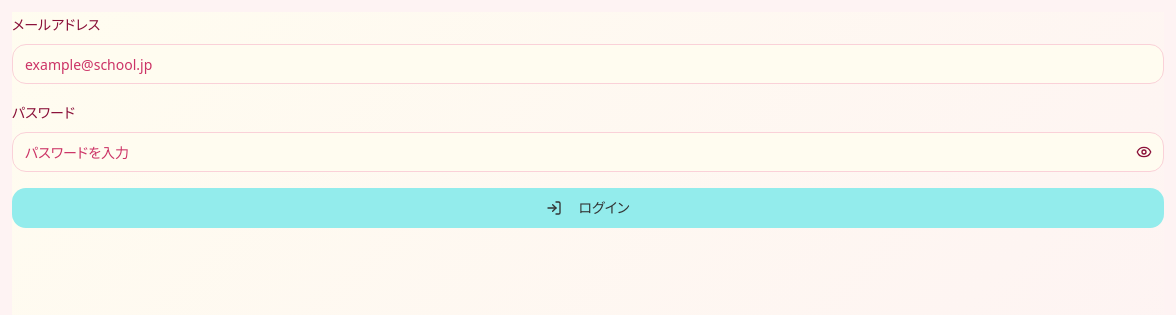
Test: LoginForm › handles sign in exceptions gracefully
Type "test@example.com" into the field labelled "メールアドレス".
click(588, 64); type("test@example.com")  # box [12,44,1164,84]
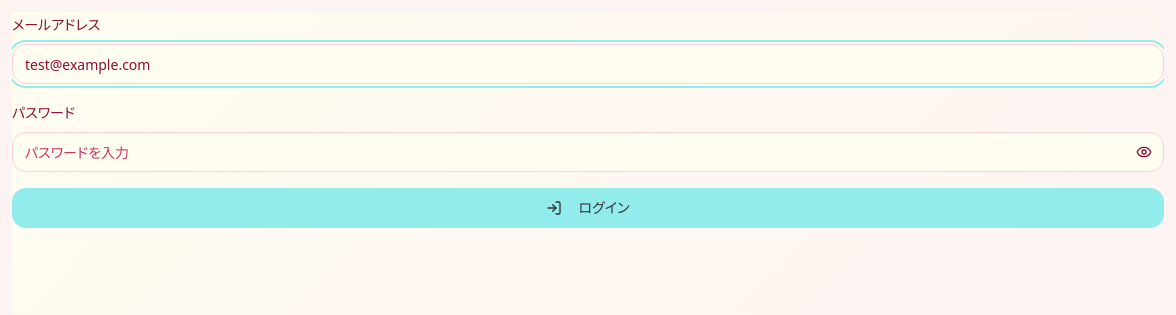
Type "Password123" into the password field with placeholder "パスワードを入力".
click(588, 152); type("Password123")  # box [12,132,1164,172]
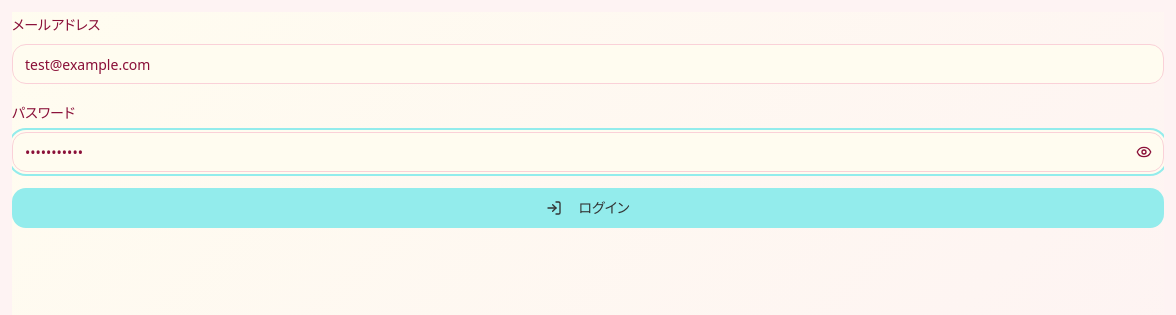
Click the button "ログイン".
click(588, 208)  # box [12,188,1164,228]
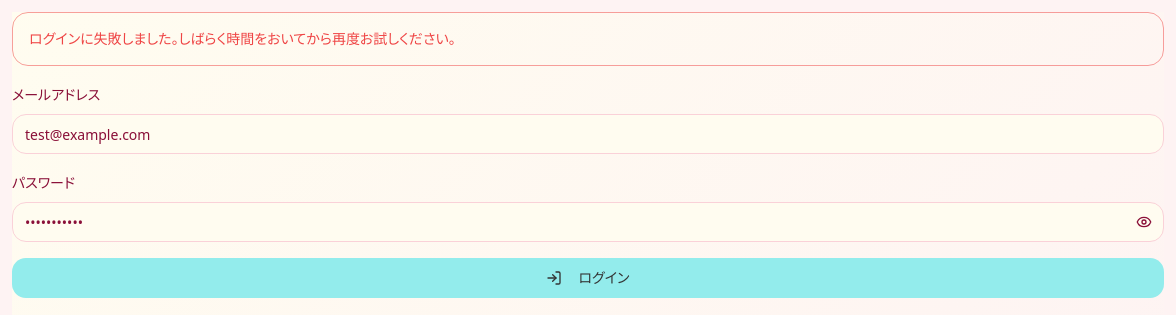
Expected: the text "ログインに失敗しました。しばらく時間をおいてから再度お試しください。" is shown, [29,29,456,48]
